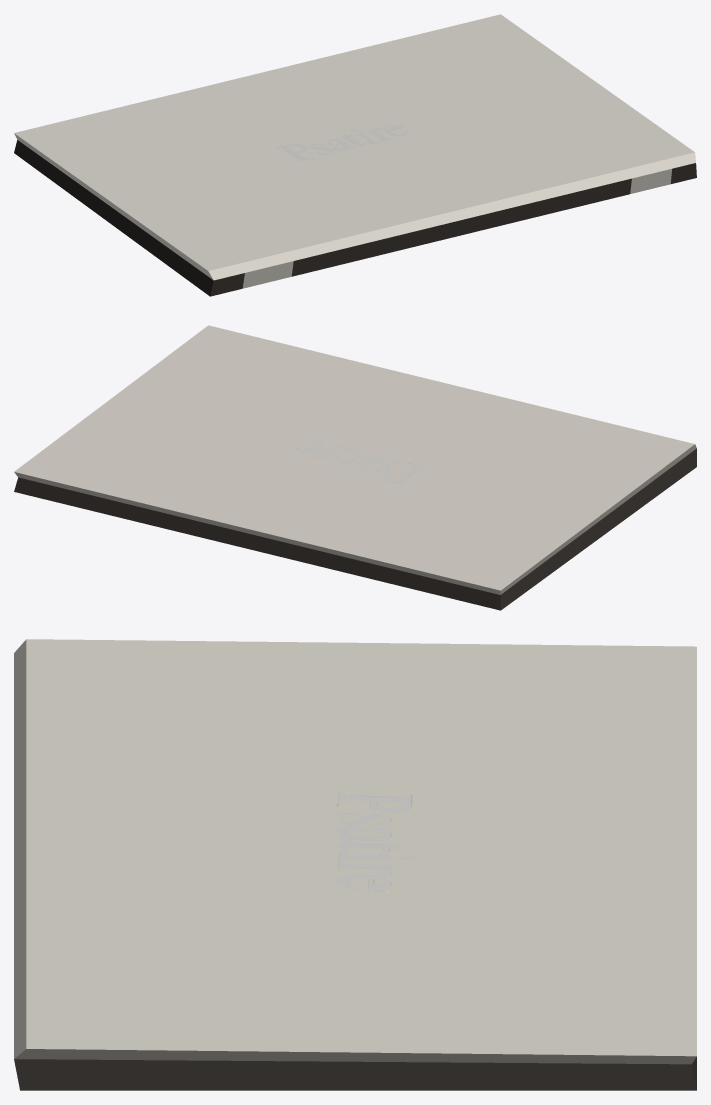
Rendered from Laptop.glb.
3 views of the same model, one above another, from view 1: azimuth 30°, elevation 25°; view 2: azimuth 150°, elevation 25°; view 3: azimuth 270°, elevation 25° (orthographic). The views are drawn at different scales.
Visible parts, largest first — view 1: Laptop; view 2: Laptop; view 3: Laptop.
Part boxes in pixels (x1,y1,x2,y2): Laptop: [14, 14, 696, 296]; Laptop: [14, 325, 696, 610]; Laptop: [14, 639, 696, 1090].
Size of the model in its own units: 1.11 by 0.053 by 0.7835.
Materials: 3 (1 with a texture image).
